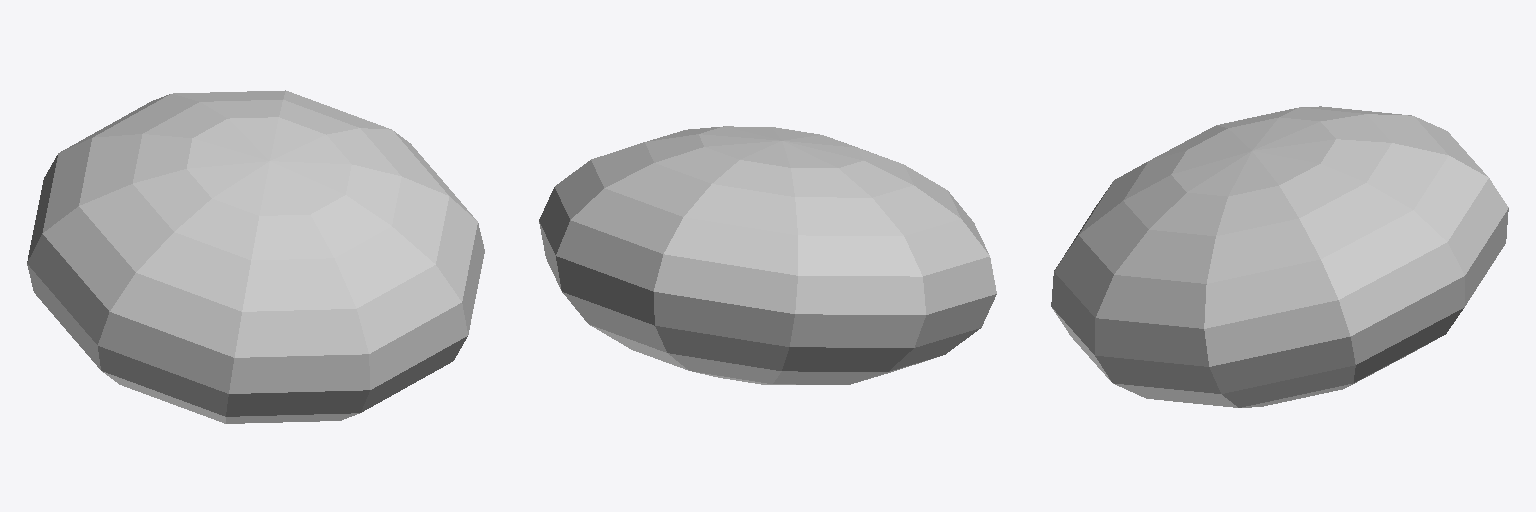
Rendered from eye_hat.obj.
3 renders of one model, left to right at view 1: azimuth 30°, elevation 25°; view 2: azimuth 150°, elevation 25°; view 3: azimuth 270°, elevation 25°, orthographic.
Visible parts, largest first — view 1: Sphere.002_Sphere.003, Sphere.003_Sphere.004; view 2: Sphere.002_Sphere.003, Sphere.003_Sphere.004; view 3: Sphere.002_Sphere.003, Sphere.003_Sphere.004.
Boxes of the visible parts, x1,y1,x2,y2 form: Sphere.002_Sphere.003: [27, 90, 484, 423]; Sphere.003_Sphere.004: [187, 117, 351, 215]; Sphere.002_Sphere.003: [539, 126, 996, 384]; Sphere.003_Sphere.004: [699, 126, 863, 167]; Sphere.002_Sphere.003: [1051, 106, 1508, 407]; Sphere.003_Sphere.004: [1171, 117, 1335, 196].
Bounding box in the file's own units: 0.4102 × 0.2364 × 0.4196.